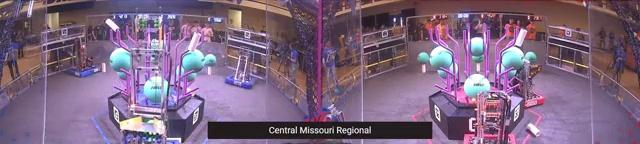reef: (104, 17, 203, 139), (428, 22, 526, 140)
robot: (120, 13, 184, 144), (465, 89, 518, 144), (515, 61, 546, 109), (64, 38, 100, 78), (224, 50, 256, 88)
